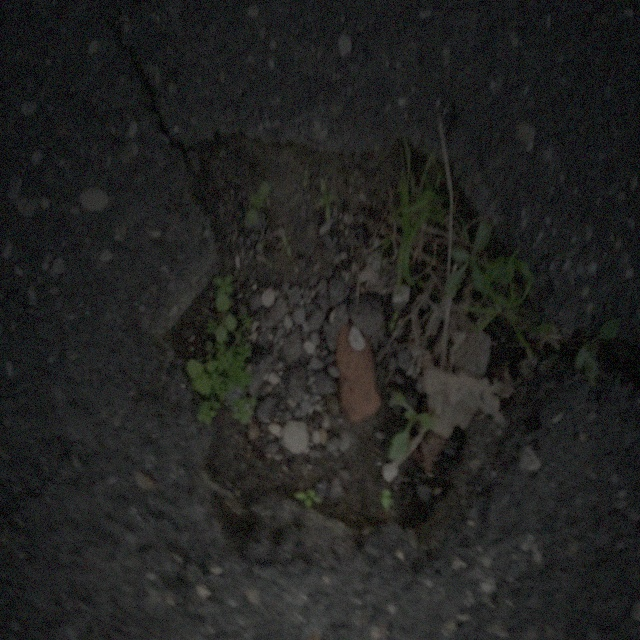pothole: (154, 126, 560, 566)
